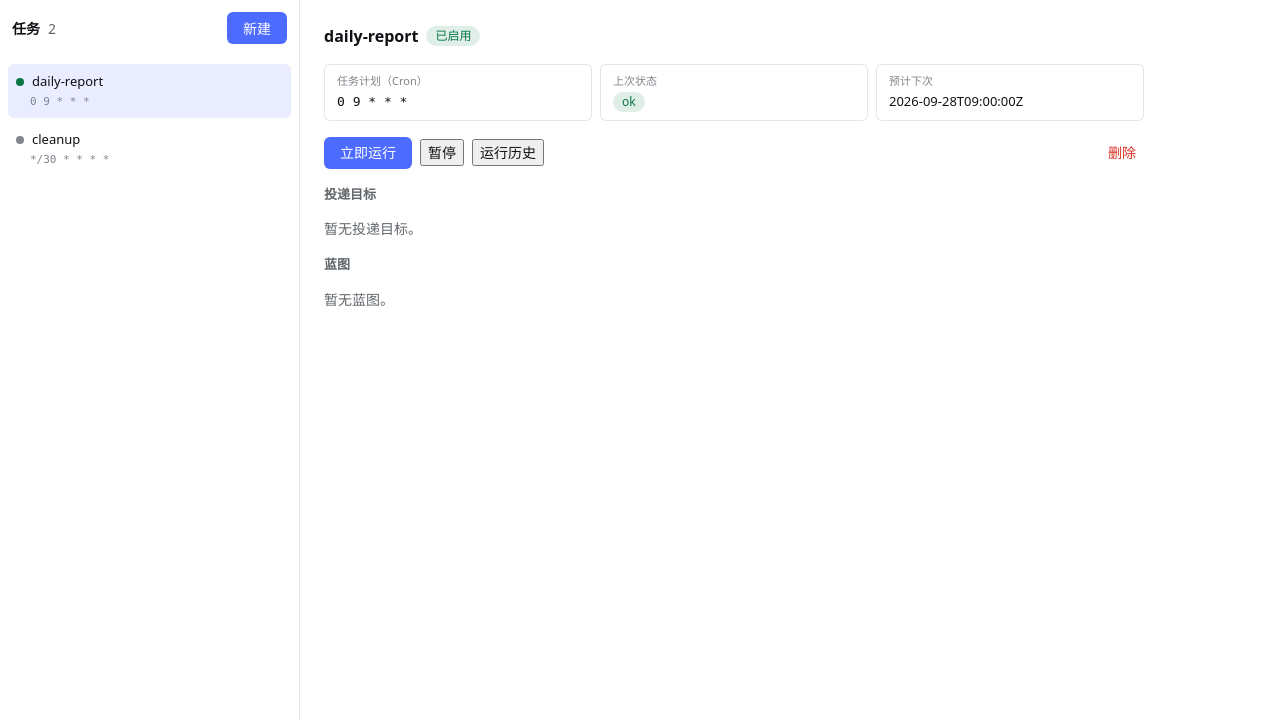
Test: TasksPage T9.1 任务列表（列表 + 详情） › lists jobs and shows the selected job detail
Check: the text "daily-report" is shown, box [16, 72, 103, 92]
Check: the 1st text "0 9 * * *" is shown, box [30, 94, 90, 108]
// 选中第二个任务 → 状态切到已暂停。
Click the text "cleanup".
click(48, 140)  # box [16, 130, 80, 150]
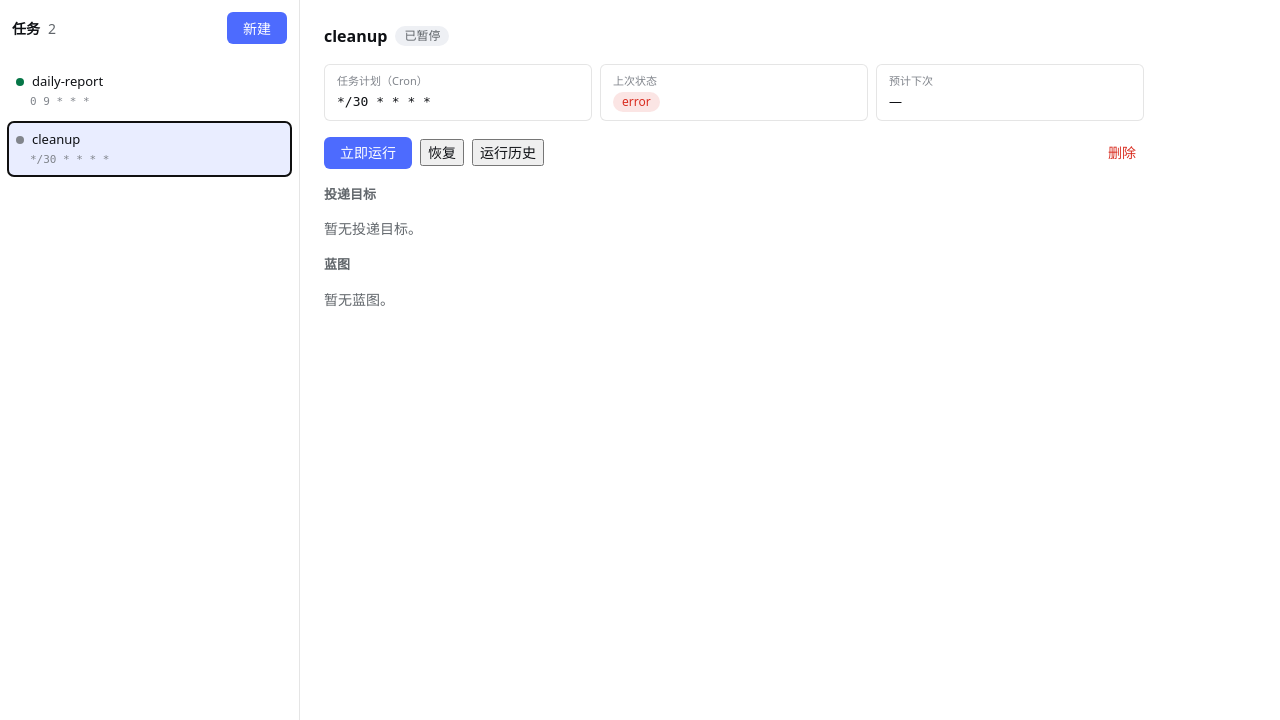
Check: the text "已暂停" is shown, box [395, 26, 449, 46]
